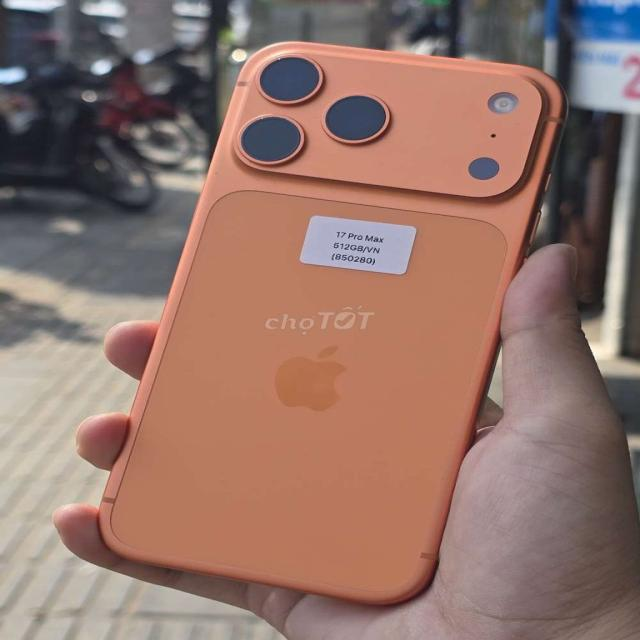gen_17: (97, 29, 571, 618)
